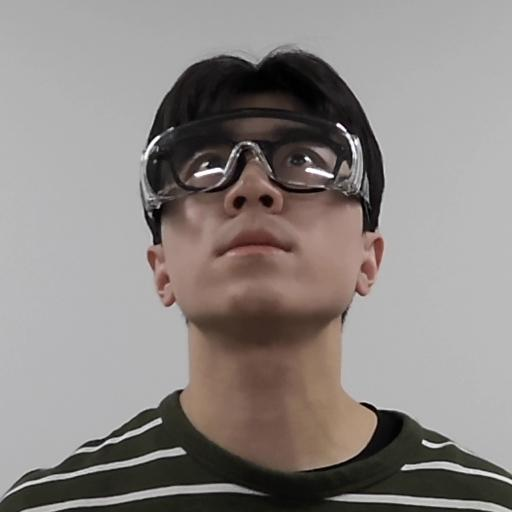glasses: (127, 41, 403, 350)
